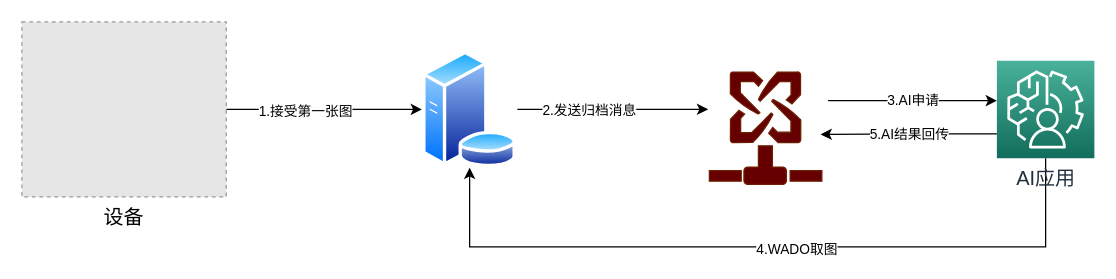
This 1116x279 diagram has some shape labels left out. Grey dashed boxes stand in for pictures. The centre of each missing label's shape, as x and y in pixels:
"数据交换中心" belongs at point 765,127.
"统一影像数据存储" belongs at point 469,108.
